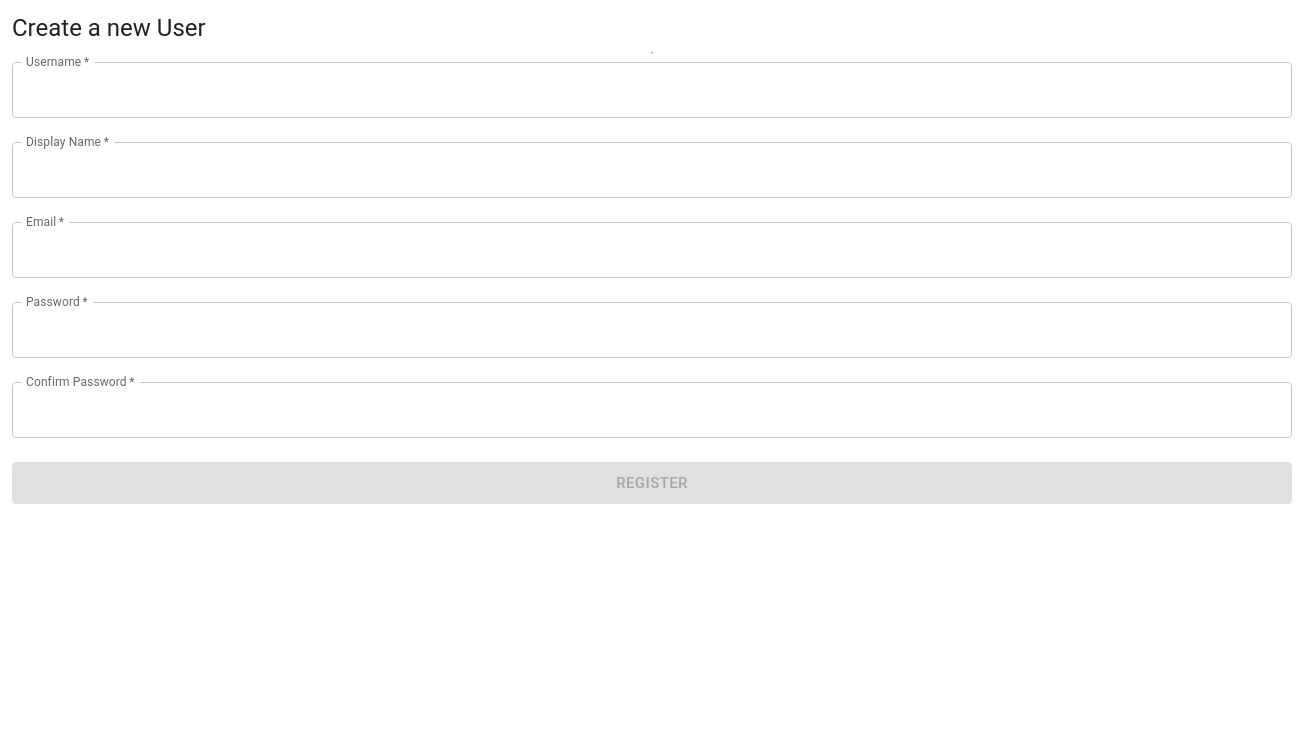
Test: RegisterView › handles registration failure
# Fill in all required fields
Type "testuser" into the field labelled "Username *" at (652,90), box x1=12 y1=62 x2=1292 y2=118
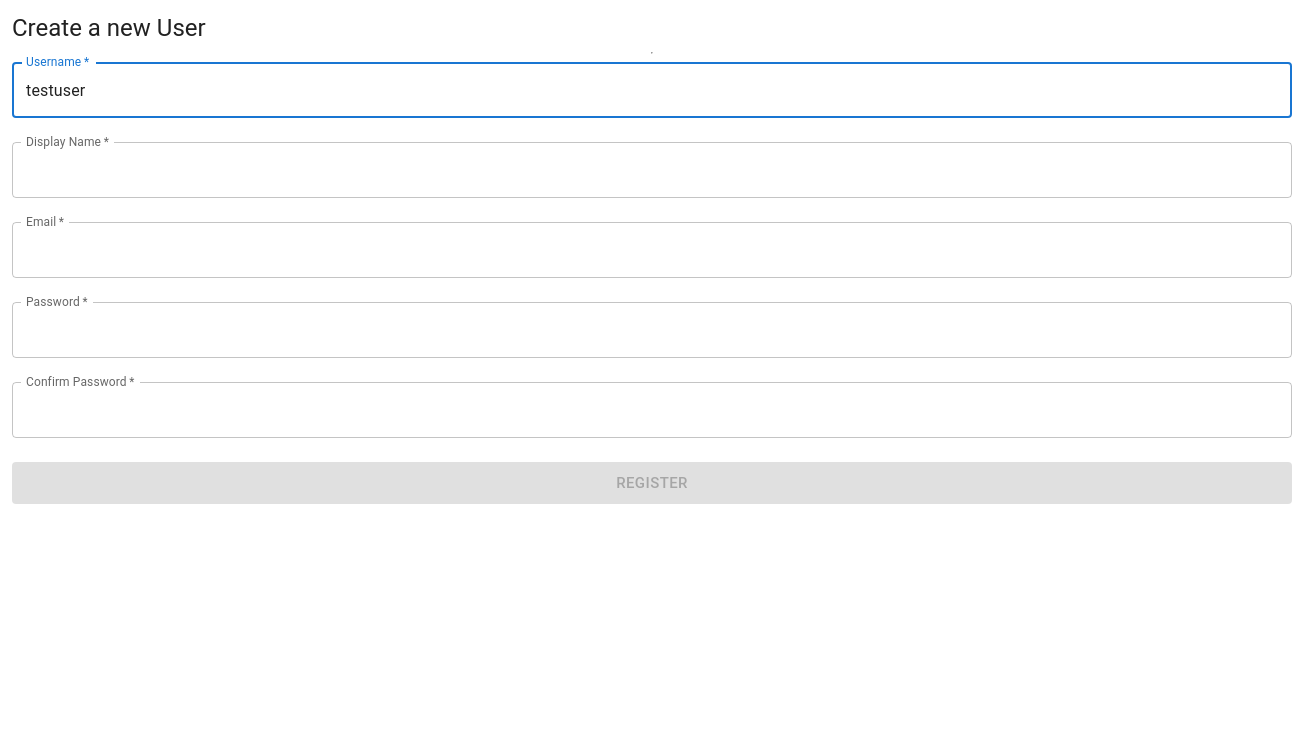
Type "Test User" into the field labelled "Display Name *" at (652,170), box x1=12 y1=142 x2=1292 y2=198
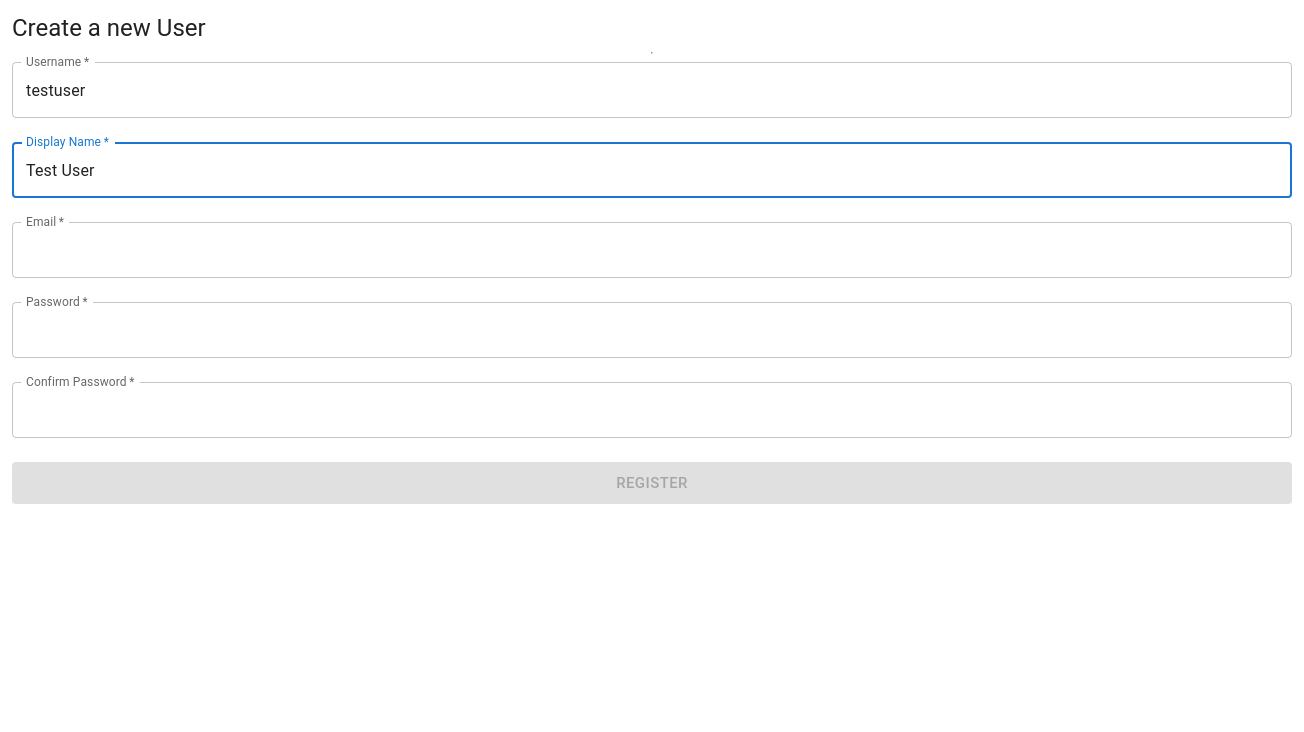
Type "test@example.com" into the field labelled "Email *" at (652,250), box x1=12 y1=222 x2=1292 y2=278
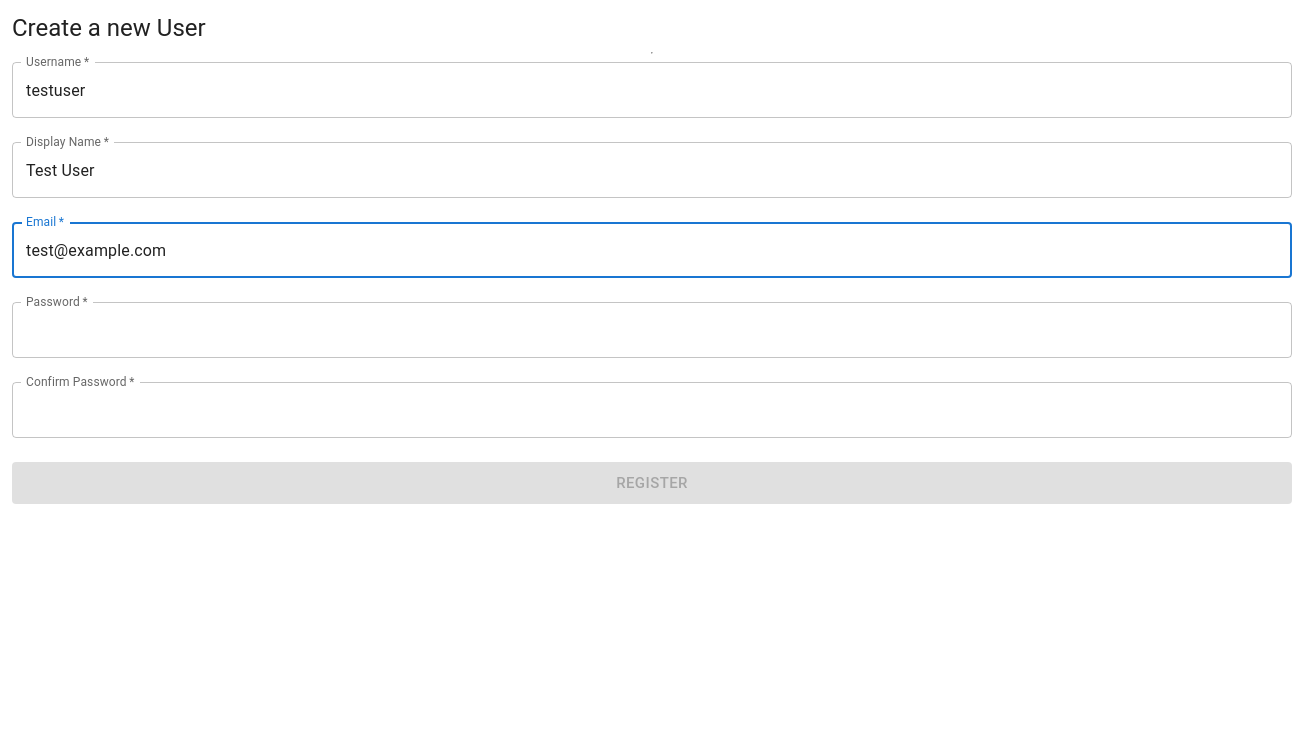
Type "Password123!" into the password field labelled "Password *" at (629,330), box x1=12 y1=302 x2=1246 y2=358
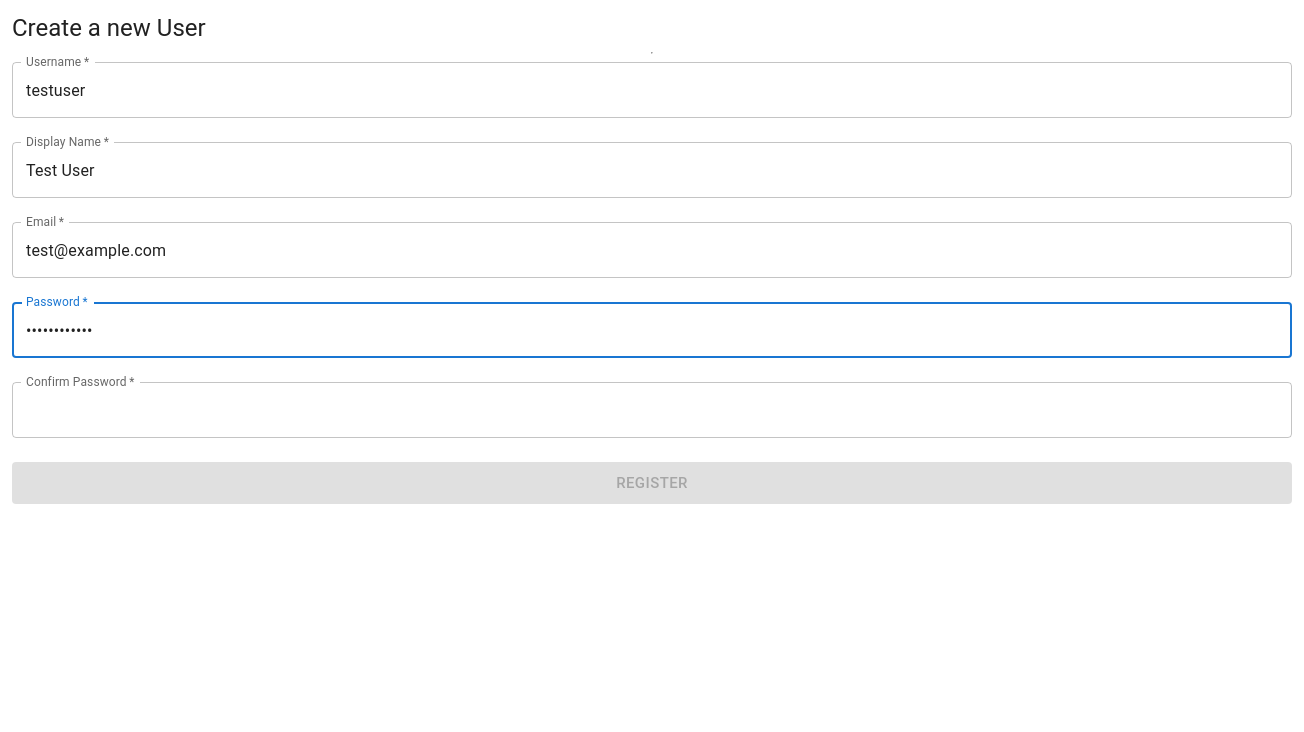
Type "Password123!" into the password field labelled "Confirm Password *" at (629,410), box x1=12 y1=382 x2=1246 y2=438
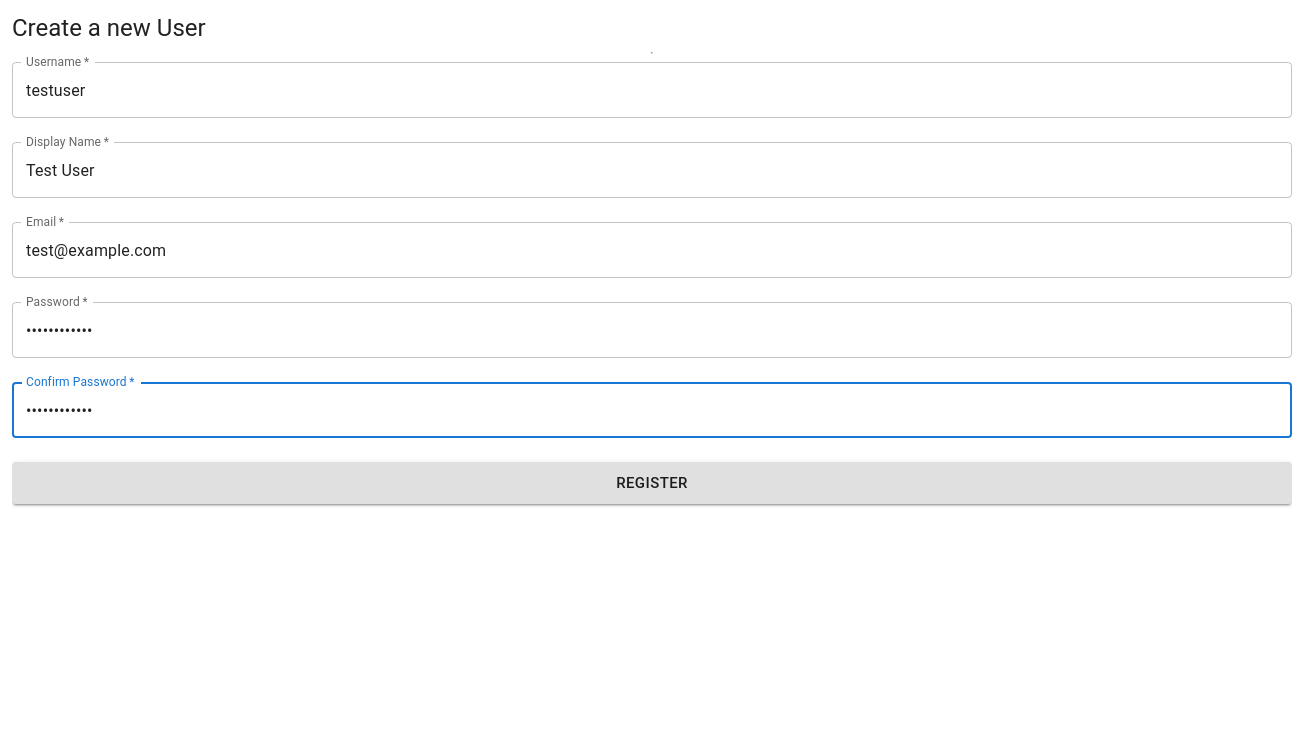
# Submit the form
Click the button "Register" at (652,483), box x1=12 y1=462 x2=1292 y2=504
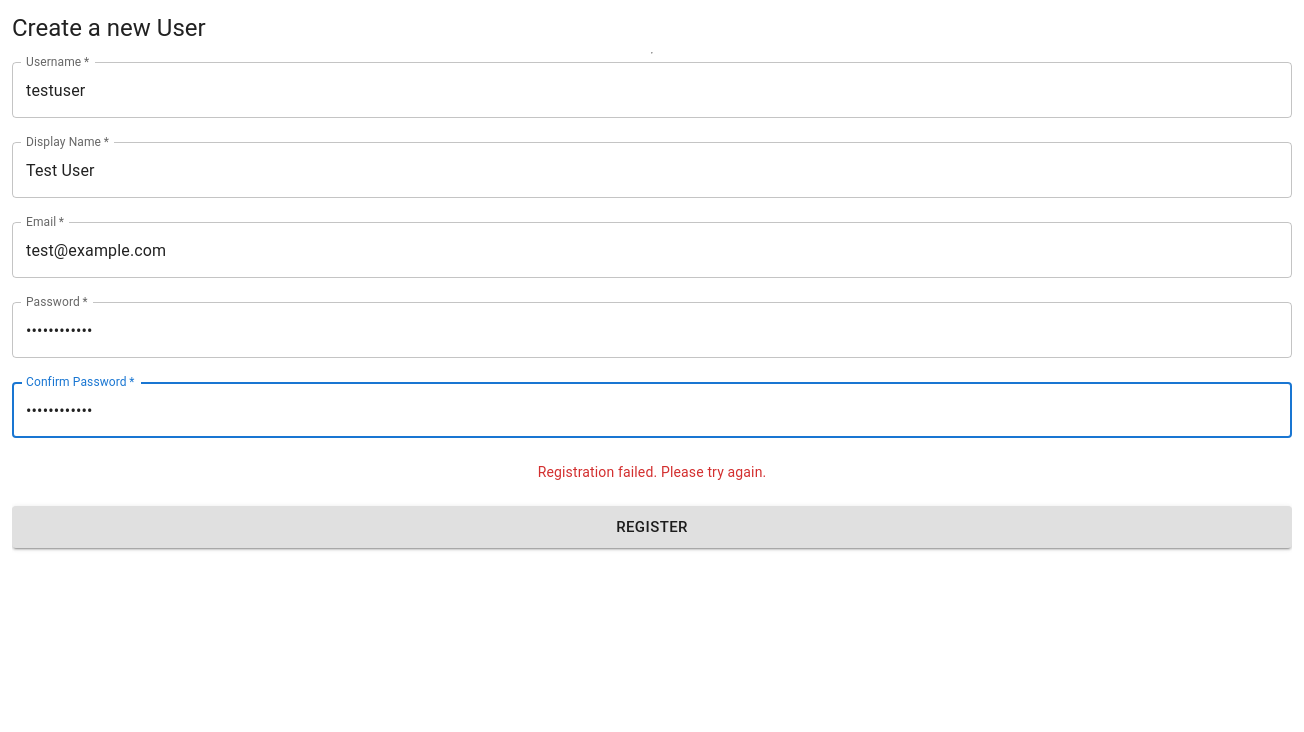
Expected: the text "Registration failed. Please try again." is shown, x1=538 y1=462 x2=766 y2=482
